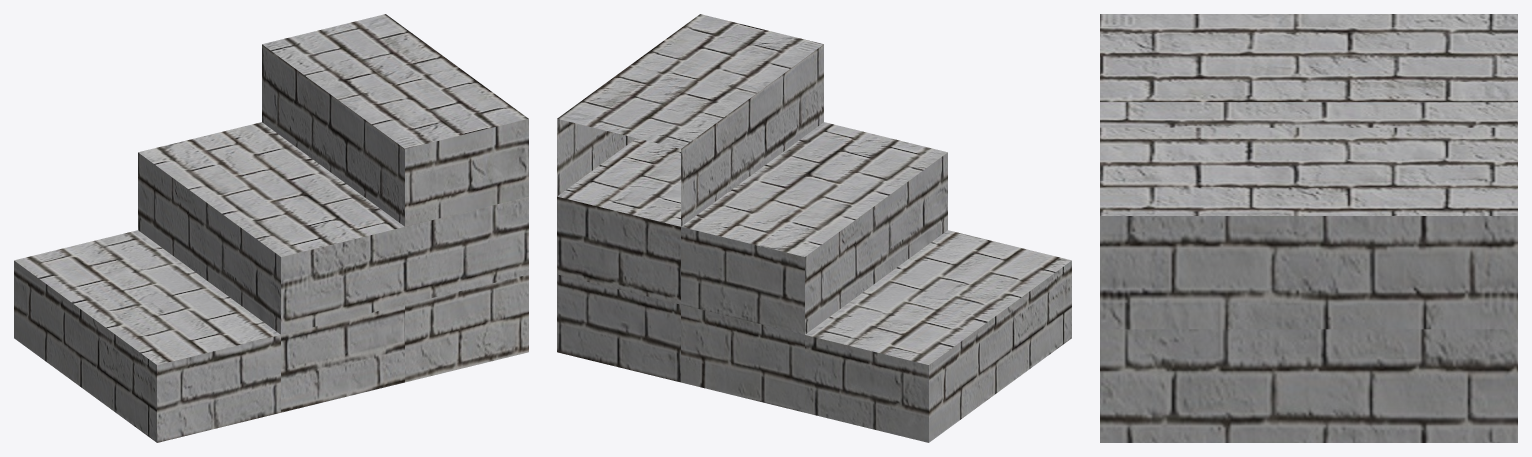
File: Staircase.gltf
3 renders of one model, left to right at view 1: azimuth 30°, elevation 25°; view 2: azimuth 150°, elevation 25°; view 3: azimuth 270°, elevation 25°, orthographic. The views are drawn at different scales.
Parts seen in each view (by area): view 1: Cube; view 2: Cube; view 3: Cube.
Part boxes in pixels (x1,y1,x2,y2): Cube: [14, 14, 528, 442]; Cube: [557, 14, 1071, 442]; Cube: [1100, 14, 1517, 442].
Bounding box in the file's own units: 3 × 1.8 × 2.
